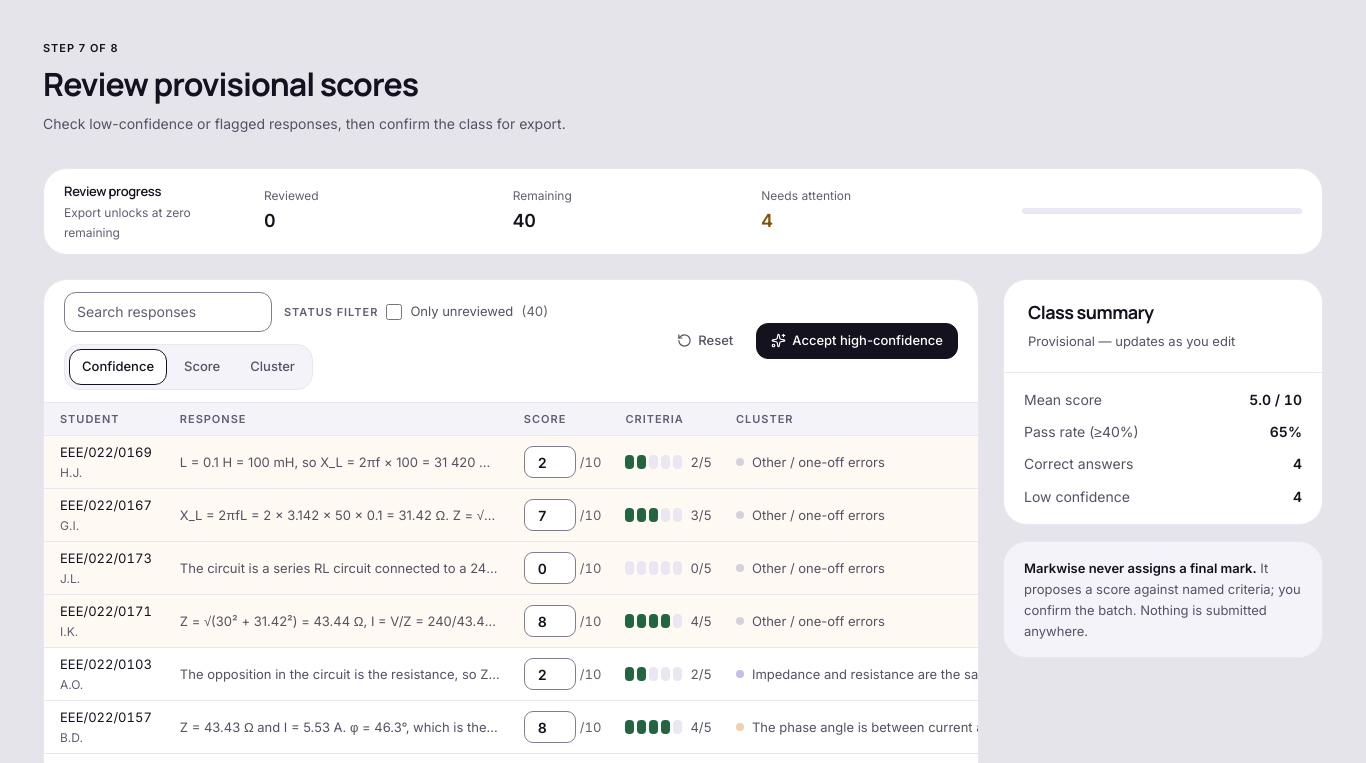
Scenario: explains an unmatched search without claiming the review is complete
The image size is (1366, 763).
In the search field labelled "Search responses": coordinates (168, 312) 64,292 -> 272,332, type "no-such-response"
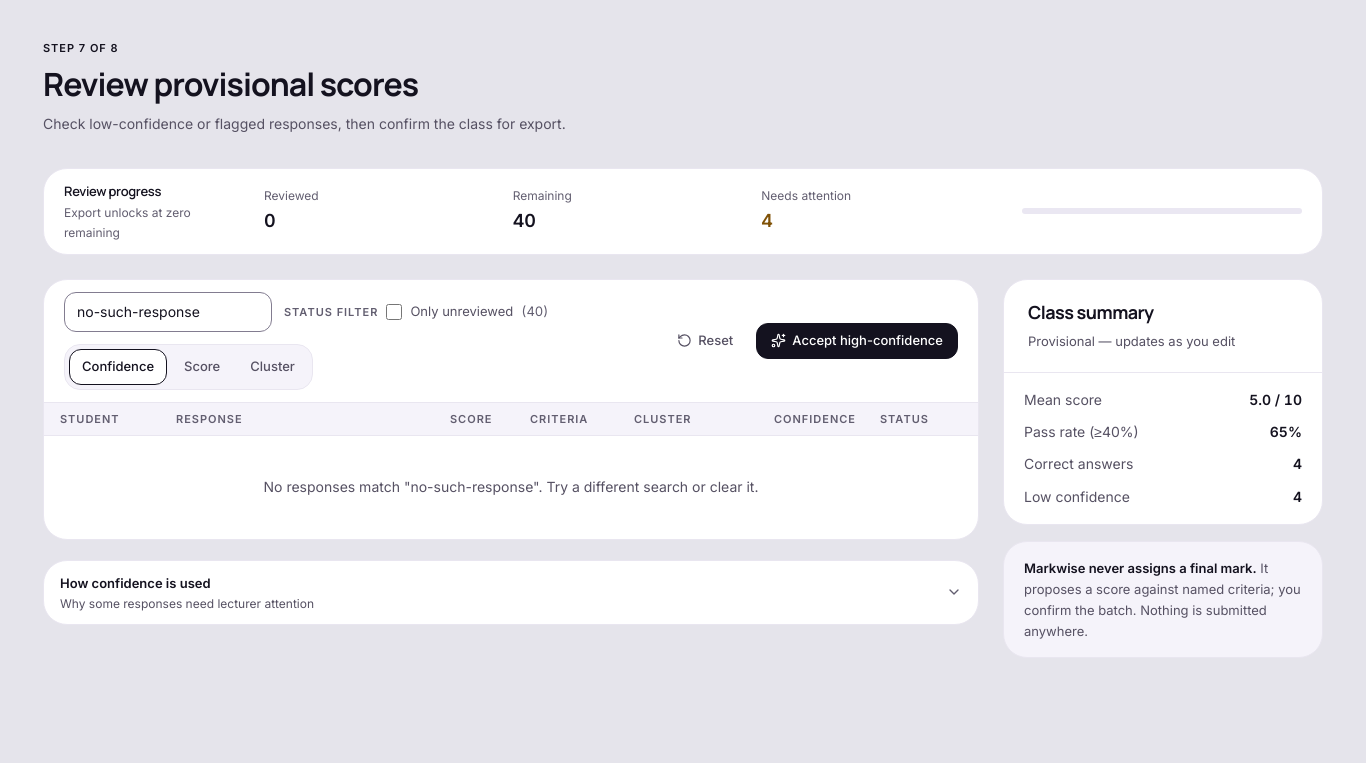
expect the text "No responses match \"no-such-response\". Try a different search or clear it." is shown: met, box 264,478 -> 758,495
